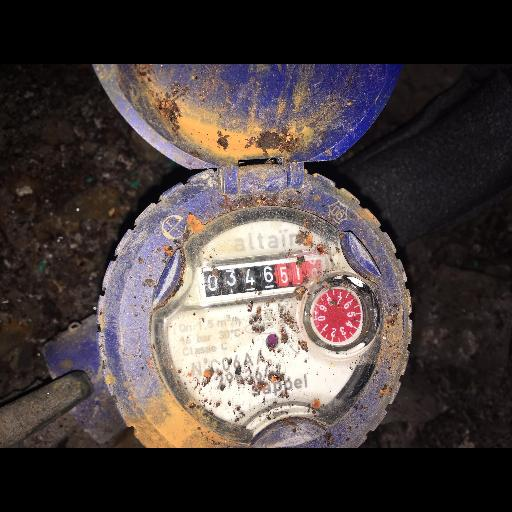0: (203, 270, 222, 297)
1: (291, 261, 305, 287)
3: (221, 267, 241, 295)
4: (239, 266, 260, 293)
5: (277, 262, 292, 288)
6: (258, 264, 276, 291)
9: (305, 259, 323, 283)
border_water_meter_number: (197, 254, 329, 303)
